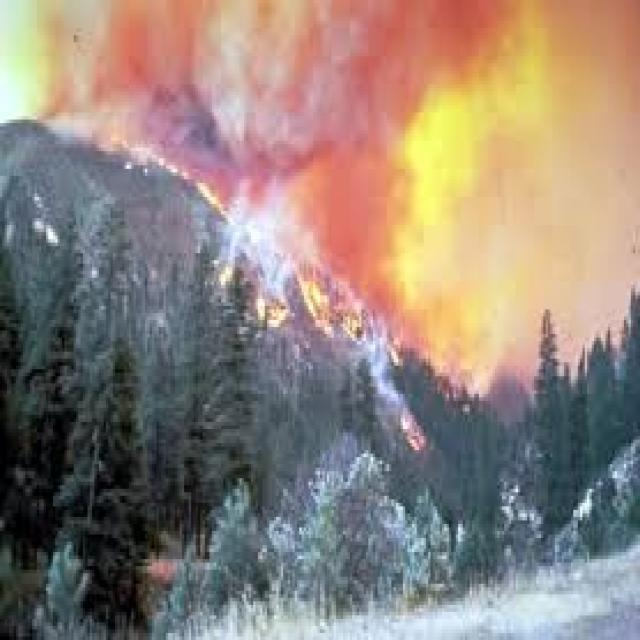Fire: (258, 250, 382, 353), (109, 136, 234, 236), (396, 408, 440, 458)
Smoke: (54, 3, 628, 160), (272, 157, 595, 360)
